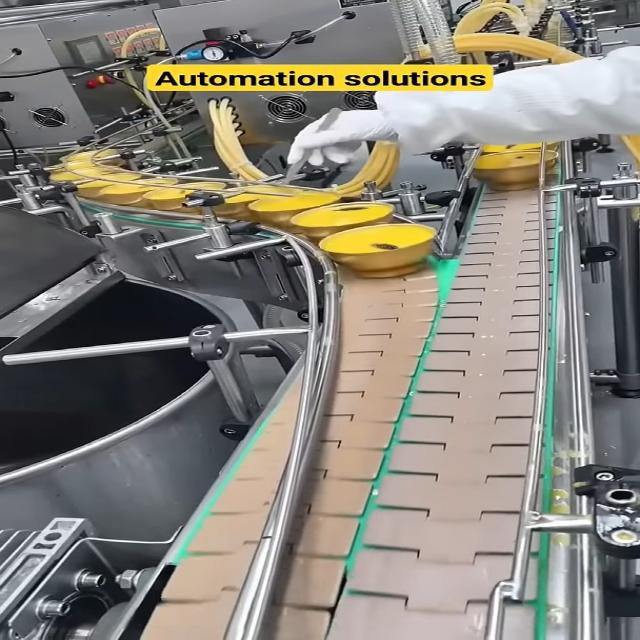cup: (310, 222, 446, 276), (458, 149, 577, 195), (285, 201, 407, 231), (245, 188, 350, 222), (138, 180, 234, 212), (92, 178, 188, 206), (213, 186, 296, 214)
